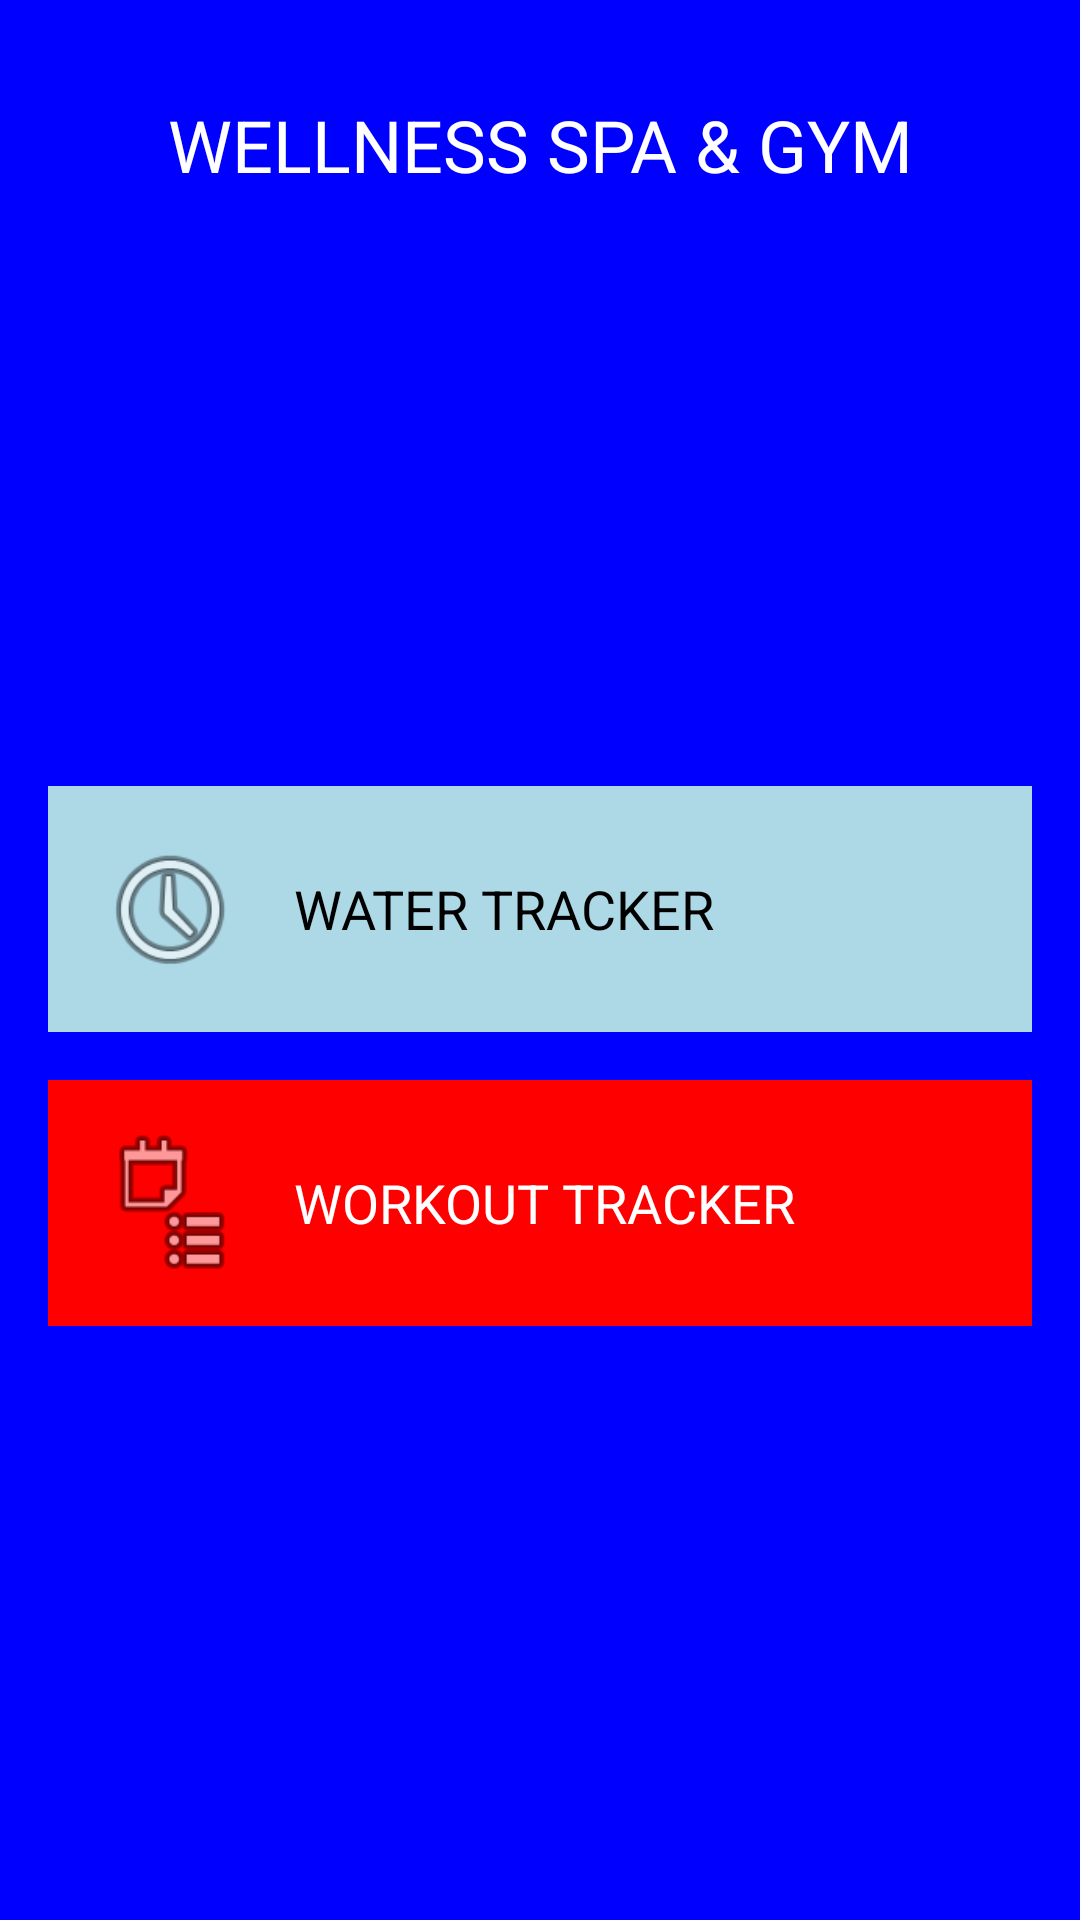

Named icons in this screenshot (1080w x 1920h) and their centers, point (x, y):
agenda: point (172, 1202)
recent history: point (170, 909)
